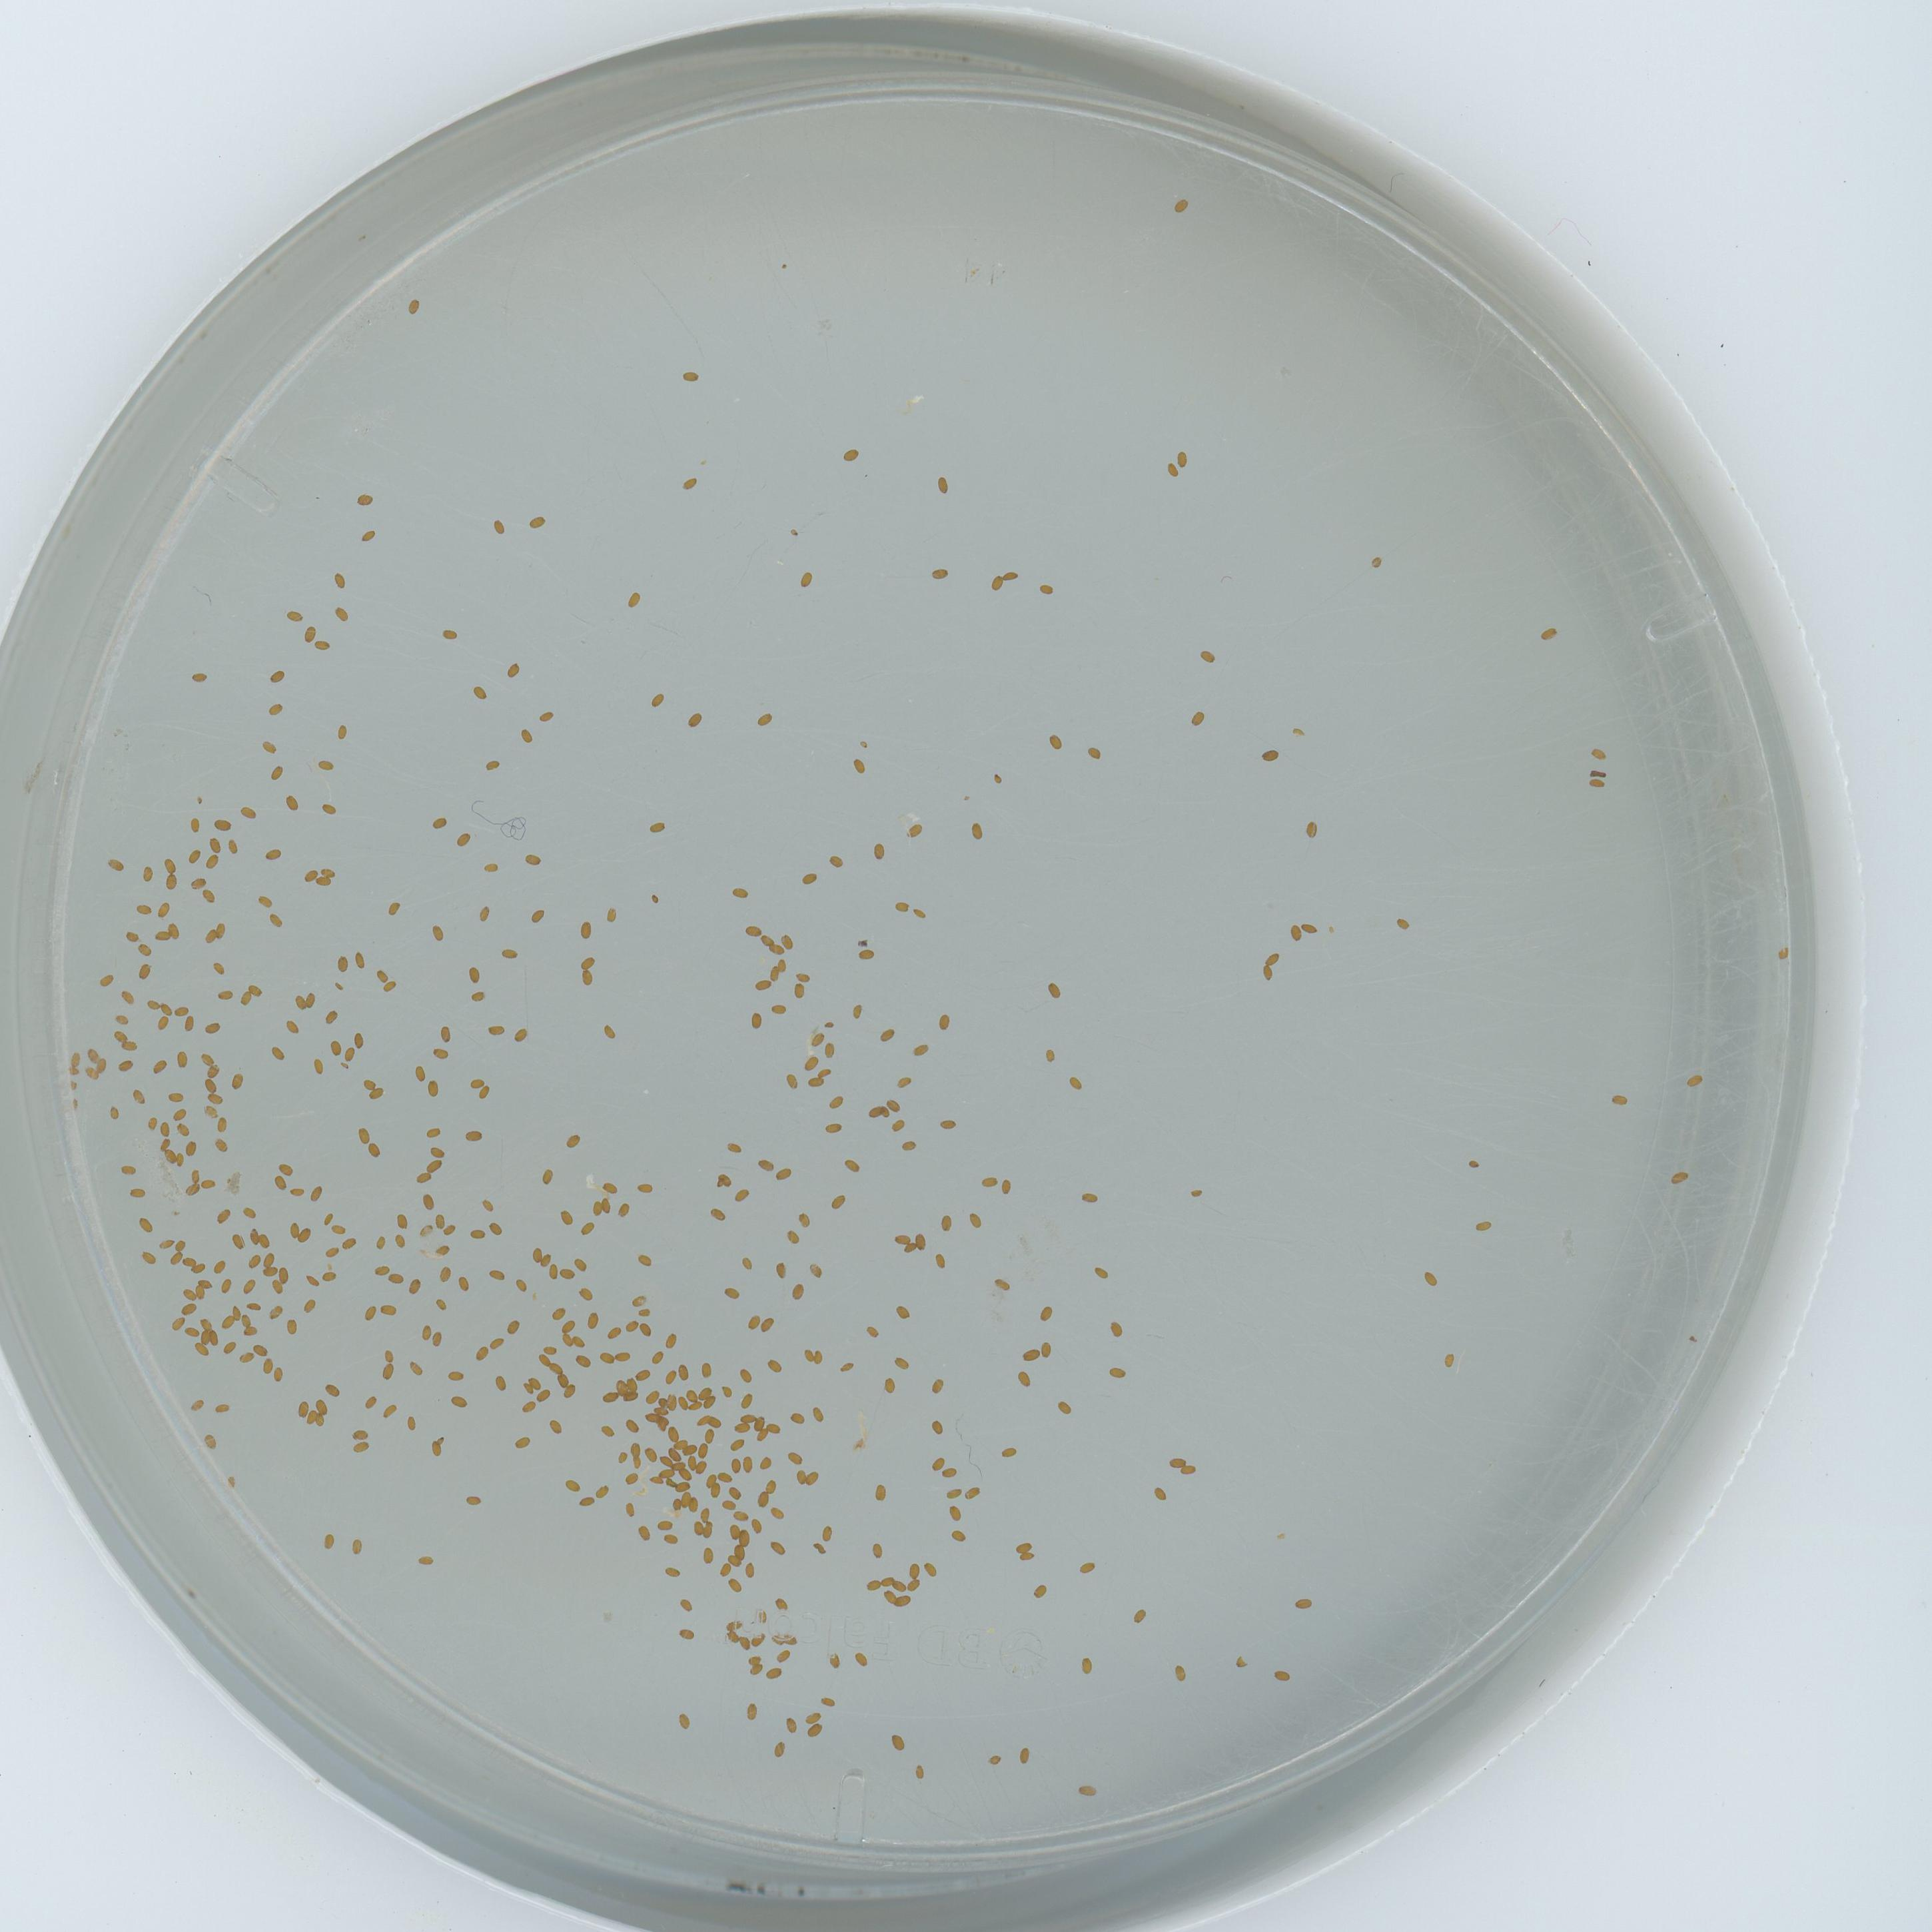seed: (333, 952, 350, 973), (299, 625, 318, 642), (453, 832, 472, 849), (685, 711, 704, 729), (577, 920, 594, 939), (796, 571, 816, 589), (165, 922, 182, 941), (419, 1192, 439, 1210), (226, 1070, 246, 1088), (136, 1215, 156, 1233), (216, 1276, 235, 1293), (1187, 709, 1207, 727), (1260, 747, 1279, 764), (704, 1412, 725, 1428), (154, 901, 172, 918), (844, 444, 862, 462), (681, 472, 699, 490), (649, 819, 667, 837), (202, 855, 219, 872), (490, 517, 508, 534), (557, 1207, 575, 1224), (488, 1332, 506, 1350), (584, 1311, 602, 1329), (828, 1092, 846, 1109), (674, 1713, 692, 1730), (172, 1047, 189, 1065), (423, 1077, 441, 1095), (701, 1546, 718, 1564), (180, 1299, 198, 1316), (874, 1483, 892, 1500), (320, 1532, 338, 1550), (426, 1440, 444, 1458), (752, 1631, 770, 1649), (1284, 922, 1302, 939), (1044, 732, 1062, 750), (1106, 1320, 1123, 1338), (1293, 1594, 1311, 1612), (966, 1210, 984, 1228), (855, 736, 872, 754), (212, 817, 232, 833), (934, 474, 950, 494), (527, 513, 547, 529), (202, 1017, 221, 1033), (748, 1010, 764, 1030), (596, 1350, 616, 1366), (449, 1392, 469, 1408), (801, 1054, 821, 1070), (464, 1125, 483, 1141), (212, 1207, 232, 1223), (870, 1100, 890, 1116), (1166, 1453, 1185, 1468), (1270, 1667, 1290, 1683), (1106, 1362, 1125, 1378), (1077, 1782, 1097, 1798), (188, 874, 205, 890), (133, 901, 150, 916), (267, 764, 285, 780), (264, 847, 281, 863), (267, 669, 285, 685), (138, 867, 156, 883), (732, 885, 750, 901), (471, 685, 488, 701), (329, 571, 347, 587), (428, 924, 444, 941), (483, 757, 501, 773), (803, 872, 821, 888), (265, 911, 283, 927), (182, 849, 200, 865), (683, 368, 701, 384), (205, 837, 221, 855), (386, 899, 402, 916), (331, 605, 349, 621), (122, 925, 140, 941), (239, 805, 257, 821), (320, 801, 338, 817), (872, 844, 890, 860), (134, 939, 150, 957), (931, 564, 948, 580), (600, 1177, 617, 1192), (886, 1095, 904, 1111), (211, 1258, 228, 1274), (577, 1284, 594, 1300), (320, 1269, 338, 1284), (117, 1054, 133, 1072), (212, 1116, 230, 1132), (350, 1424, 368, 1440), (379, 1362, 396, 1378), (770, 1506, 787, 1522), (380, 1403, 398, 1419), (469, 987, 487, 1003), (322, 1008, 340, 1024), (504, 1318, 522, 1334), (575, 1352, 593, 1368), (784, 1716, 800, 1734), (432, 1295, 449, 1311), (331, 1219, 347, 1237), (725, 1578, 743, 1594), (865, 1322, 883, 1338), (170, 1104, 188, 1120), (513, 1026, 529, 1044), (625, 1470, 642, 1486), (354, 1127, 372, 1143), (322, 1380, 340, 1396), (890, 1116, 908, 1132), (212, 1398, 230, 1414), (299, 1297, 317, 1313), (361, 1304, 379, 1320), (600, 1422, 617, 1438), (938, 1214, 955, 1230), (789, 1408, 807, 1424), (635, 1525, 653, 1541), (614, 1346, 632, 1362), (465, 966, 481, 984), (724, 1283, 741, 1299), (625, 1417, 642, 1433), (487, 1219, 504, 1235), (168, 1315, 186, 1330), (665, 1424, 683, 1440), (766, 1665, 784, 1681), (826, 1118, 844, 1134), (352, 1438, 370, 1454), (564, 1131, 582, 1146), (341, 1044, 359, 1060), (775, 1164, 793, 1180), (276, 1157, 294, 1173), (111, 1026, 129, 1042), (639, 1320, 656, 1336), (487, 1021, 504, 1037), (180, 1138, 198, 1154), (196, 1047, 214, 1063), (890, 1736, 908, 1752), (540, 1166, 556, 1184), (179, 1014, 196, 1030), (844, 1155, 862, 1171), (129, 1086, 147, 1102), (372, 1233, 389, 1249), (455, 1276, 472, 1292), (678, 1624, 695, 1640), (379, 1300, 396, 1316), (663, 1562, 681, 1578), (372, 966, 389, 982), (771, 1741, 787, 1759), (621, 1502, 639, 1518), (182, 1323, 200, 1339), (281, 1316, 299, 1332), (770, 1539, 787, 1555), (310, 1056, 327, 1072), (244, 1297, 262, 1313), (513, 1276, 531, 1292), (156, 1233, 173, 1249), (241, 1277, 258, 1293), (605, 1323, 623, 1339), (791, 1281, 807, 1299), (738, 1366, 755, 1382), (150, 1056, 168, 1072), (637, 1178, 655, 1194), (426, 1155, 444, 1171), (791, 982, 809, 998), (488, 1265, 506, 1281), (165, 1086, 182, 1102), (853, 1651, 870, 1667), (741, 1454, 757, 1472), (405, 1277, 421, 1295), (745, 1704, 761, 1721), (649, 1348, 667, 1364), (119, 1161, 136, 1177), (718, 1382, 736, 1398), (308, 1184, 324, 1201), (911, 1039, 929, 1054), (173, 1120, 191, 1136), (717, 1171, 734, 1187), (265, 1304, 283, 1320), (738, 1635, 754, 1652), (936, 1012, 952, 1030), (188, 1394, 205, 1410), (748, 1649, 764, 1667), (418, 1552, 435, 1568), (1394, 915, 1412, 931), (1300, 823, 1318, 839), (1300, 918, 1318, 934), (1198, 648, 1215, 663), (1131, 1606, 1146, 1624), (998, 1177, 1016, 1192), (1150, 1484, 1168, 1500), (1035, 1304, 1053, 1320), (1612, 1090, 1629, 1106), (1077, 1656, 1093, 1674), (1079, 1187, 1097, 1203), (980, 1171, 998, 1187), (993, 1276, 1010, 1292), (1421, 1270, 1438, 1286), (1688, 1072, 1706, 1088), (223, 1476, 241, 1491), (858, 947, 878, 961), (729, 1435, 748, 1449), (211, 961, 230, 975), (1589, 747, 1608, 761), (1173, 196, 1187, 216), (430, 814, 446, 830), (895, 897, 911, 913), (830, 855, 846, 870), (257, 893, 272, 909), (108, 856, 124, 872), (478, 904, 494, 920), (518, 729, 534, 745), (757, 711, 773, 727), (504, 663, 520, 679), (529, 908, 545, 924), (283, 796, 299, 812), (200, 888, 216, 904), (745, 922, 761, 938), (356, 492, 372, 508), (782, 932, 798, 948), (442, 626, 458, 642), (225, 839, 241, 855), (851, 759, 867, 775), (260, 740, 276, 755), (580, 954, 596, 970), (334, 724, 350, 740), (405, 297, 421, 313), (603, 906, 619, 922), (637, 1249, 653, 1265), (363, 1392, 379, 1408), (561, 1316, 577, 1332), (658, 1516, 674, 1532), (494, 1373, 510, 1389), (129, 1184, 145, 1200), (437, 1024, 453, 1040), (775, 1647, 791, 1663), (99, 971, 115, 987), (297, 1228, 313, 1244), (870, 1541, 886, 1557), (391, 1231, 407, 1247), (906, 1560, 922, 1576), (787, 1449, 803, 1465), (218, 985, 234, 1001), (594, 1483, 610, 1499), (929, 1419, 945, 1435), (839, 1357, 855, 1373), (380, 1346, 396, 1362), (479, 1196, 495, 1212), (350, 1030, 366, 1046), (412, 1063, 428, 1079), (699, 1361, 715, 1376), (947, 1484, 962, 1500), (929, 1454, 945, 1470), (113, 1010, 129, 1026), (893, 1355, 909, 1371), (897, 1070, 913, 1086), (883, 1376, 899, 1392), (154, 1014, 170, 1030), (448, 1366, 464, 1382), (469, 1072, 485, 1088), (269, 1042, 285, 1058), (239, 1350, 255, 1366), (662, 1369, 678, 1385), (924, 1560, 939, 1576), (366, 1141, 382, 1157), (237, 989, 253, 1005), (849, 1003, 865, 1019), (272, 1173, 288, 1189), (580, 1219, 596, 1235), (432, 1044, 448, 1060), (550, 1304, 566, 1320), (786, 1072, 801, 1088), (571, 1332, 587, 1348), (759, 1453, 775, 1468), (773, 1596, 789, 1612), (759, 1155, 775, 1171), (340, 1235, 356, 1251), (867, 1576, 883, 1592), (761, 1315, 777, 1330), (932, 1251, 948, 1267), (908, 1576, 924, 1592), (750, 1518, 766, 1534), (915, 1233, 931, 1249), (547, 1417, 563, 1433), (373, 1260, 389, 1276), (212, 1136, 228, 1152), (740, 1392, 755, 1408), (821, 1525, 837, 1541), (810, 1028, 826, 1044), (186, 1166, 202, 1182), (349, 1537, 364, 1553), (303, 991, 318, 1007), (579, 1493, 594, 1509), (821, 1016, 837, 1031), (663, 1332, 679, 1348), (764, 1477, 780, 1493), (191, 1341, 207, 1357), (221, 1338, 237, 1353), (614, 1449, 630, 1465), (947, 1504, 962, 1520), (416, 1169, 432, 1185), (230, 1233, 246, 1249), (119, 989, 134, 1005), (288, 1184, 304, 1200), (697, 1384, 713, 1399), (184, 1180, 200, 1196), (559, 1265, 575, 1281), (437, 1265, 453, 1281), (895, 1304, 911, 1320), (678, 1596, 694, 1612), (287, 1223, 303, 1238), (832, 1192, 847, 1208), (734, 1185, 750, 1201), (430, 1329, 446, 1345), (740, 1253, 755, 1269), (745, 1315, 761, 1330), (810, 1407, 826, 1422), (616, 1201, 632, 1217), (476, 1085, 492, 1100), (786, 1228, 801, 1244), (465, 1491, 481, 1507), (809, 1725, 824, 1741), (796, 1212, 812, 1228), (725, 1523, 741, 1539), (318, 1210, 334, 1226), (644, 1445, 660, 1461), (773, 1261, 789, 1277), (573, 1254, 589, 1270), (793, 1468, 809, 1484), (143, 1115, 159, 1131), (881, 1589, 897, 1605), (897, 1592, 913, 1608), (244, 1253, 260, 1269), (120, 1037, 136, 1053), (809, 1261, 824, 1277), (515, 1431, 531, 1447), (418, 1323, 433, 1339), (529, 1373, 545, 1389), (724, 1629, 740, 1645), (911, 1764, 927, 1780), (1037, 580, 1053, 596), (970, 823, 985, 839), (1023, 1345, 1039, 1361), (1017, 1748, 1033, 1764), (1054, 1398, 1070, 1414), (1030, 1583, 1046, 1599), (966, 1484, 982, 1500), (1171, 1665, 1187, 1681), (1258, 966, 1274, 982), (1092, 1263, 1108, 1279), (1001, 1442, 1017, 1458), (1077, 1559, 1093, 1575), (1476, 1217, 1491, 1233), (1065, 1072, 1081, 1088), (1044, 982, 1060, 998), (1440, 1352, 1456, 1368), (67, 1051, 83, 1067), (313, 639, 331, 653), (354, 952, 368, 970), (285, 609, 303, 623), (161, 874, 179, 888), (161, 860, 179, 874), (501, 945, 518, 959), (906, 823, 924, 837), (766, 1357, 784, 1371), (472, 1346, 490, 1361), (805, 1711, 823, 1725), (564, 1477, 582, 1491), (467, 1224, 485, 1238), (393, 1214, 410, 1228), (428, 1143, 446, 1157), (826, 1654, 844, 1668), (755, 978, 773, 993), (96, 1056, 110, 1074), (701, 1428, 718, 1442), (635, 1366, 653, 1380), (662, 1532, 679, 1546), (676, 1364, 694, 1378), (709, 1205, 727, 1219), (402, 1415, 419, 1430), (741, 1562, 759, 1576), (202, 1433, 219, 1447), (623, 1318, 640, 1332), (725, 1139, 743, 1154), (387, 1270, 405, 1284), (794, 970, 812, 984), (727, 1486, 745, 1500), (701, 1396, 718, 1410), (172, 1001, 189, 1016), (218, 1315, 235, 1329), (267, 1279, 285, 1293), (929, 1378, 947, 1392), (1175, 449, 1189, 467), (1001, 568, 1019, 582), (1539, 626, 1557, 640), (1014, 1537, 1031, 1552), (1178, 1463, 1196, 1477), (1589, 777, 1606, 791), (1670, 1171, 1688, 1185), (1775, 947, 1792, 961), (614, 1378, 628, 1396), (695, 1414, 713, 1428), (294, 993, 306, 1012), (159, 1118, 172, 1138), (653, 1405, 672, 1417), (317, 757, 333, 771), (191, 671, 207, 685), (913, 906, 929, 920), (525, 853, 541, 867), (186, 819, 202, 833), (628, 593, 644, 607), (483, 862, 499, 876), (301, 870, 317, 885), (651, 694, 667, 708), (267, 702, 283, 717), (320, 865, 336, 879), (359, 529, 375, 543), (646, 892, 662, 906), (248, 1230, 262, 1246), (771, 1001, 787, 1016), (602, 1389, 617, 1403), (134, 966, 150, 980), (821, 1693, 837, 1707), (140, 1249, 156, 1263), (425, 1122, 441, 1136), (635, 1306, 651, 1320), (294, 1401, 308, 1417), (720, 1497, 736, 1511), (435, 1244, 451, 1258), (536, 1389, 552, 1403), (559, 1332, 575, 1346), (251, 1341, 267, 1355), (283, 1017, 299, 1031), (370, 1086, 386, 1100), (879, 1028, 895, 1042), (823, 1042, 839, 1056), (809, 1074, 824, 1088), (699, 1506, 713, 1522), (950, 1527, 964, 1543), (768, 1421, 784, 1435), (200, 1177, 216, 1191), (262, 1251, 278, 1265), (257, 1359, 272, 1373), (303, 1272, 318, 1286), (901, 1136, 916, 1150), (324, 1244, 340, 1258), (205, 1090, 221, 1104), (326, 1039, 341, 1053), (563, 1384, 579, 1398), (895, 1230, 911, 1244), (543, 1341, 559, 1355), (579, 971, 594, 985), (941, 1465, 957, 1479), (432, 1212, 448, 1226), (407, 1361, 423, 1375), (734, 1421, 750, 1435), (156, 1138, 172, 1152), (688, 1497, 702, 1513), (755, 1491, 771, 1506), (520, 1399, 536, 1414), (156, 1000, 172, 1014), (646, 1389, 660, 1405), (242, 1203, 257, 1219), (718, 1470, 734, 1484), (630, 1292, 646, 1306), (442, 1223, 458, 1237), (939, 1115, 955, 1129), (278, 1265, 292, 1281), (801, 1346, 817, 1361), (602, 1023, 617, 1037), (271, 1368, 285, 1384), (881, 1571, 897, 1585), (697, 1444, 713, 1458), (361, 1074, 375, 1090), (257, 1233, 272, 1247), (718, 1562, 734, 1576), (191, 1261, 207, 1276), (196, 1315, 211, 1330), (202, 1076, 216, 1092), (768, 966, 784, 980), (172, 1238, 186, 1254), (529, 1247, 543, 1263), (807, 1470, 823, 1484), (623, 1392, 639, 1407), (246, 980, 262, 994), (669, 1445, 685, 1460), (727, 1458, 743, 1472), (106, 1104, 122, 1118), (688, 1520, 704, 1534), (205, 1062, 221, 1076), (628, 1440, 644, 1454), (754, 1430, 770, 1444), (589, 1200, 603, 1215), (632, 1454, 646, 1470), (748, 1665, 764, 1679), (658, 1454, 674, 1468), (536, 1352, 550, 1368), (732, 1545, 747, 1560), (83, 1046, 99, 1060), (1263, 950, 1279, 964), (1086, 747, 1102, 761), (1162, 462, 1178, 476), (987, 575, 1003, 589), (1368, 554, 1384, 568), (1016, 1371, 1031, 1385), (1039, 1341, 1053, 1357), (987, 1752, 1001, 1767), (1042, 1047, 1056, 1063), (1231, 1656, 1247, 1670), (1187, 1184, 1203, 1198), (787, 525, 803, 540), (679, 1493, 694, 1509), (419, 1224, 435, 1238), (725, 1621, 747, 1631), (83, 1065, 99, 1079), (203, 929, 216, 947), (207, 1329, 219, 1346), (644, 1412, 662, 1424), (816, 1063, 833, 1076), (1017, 1550, 1035, 1562), (200, 1327, 212, 1345), (667, 1392, 678, 1412), (540, 711, 554, 725), (214, 924, 228, 938), (761, 932, 775, 947), (502, 826, 517, 840), (170, 1251, 184, 1265), (709, 1484, 724, 1499), (198, 1274, 212, 1288), (262, 1263, 276, 1277), (315, 1398, 329, 1412), (180, 1286, 195, 1300), (545, 1265, 559, 1279), (892, 1578, 906, 1592), (695, 1460, 709, 1474), (679, 1467, 694, 1481), (685, 1454, 699, 1468), (173, 1152, 188, 1166), (989, 771, 1003, 786), (672, 1460, 686, 1474), (152, 929, 168, 941), (734, 1509, 750, 1522), (702, 1522, 715, 1537), (648, 1474, 663, 1486), (380, 980, 396, 993), (786, 1633, 801, 1645), (143, 996, 159, 1008), (814, 1350, 826, 1366), (740, 1412, 755, 1424), (242, 1325, 258, 1338), (548, 1361, 564, 1373), (812, 1541, 828, 1553), (182, 1256, 198, 1269), (674, 1481, 690, 1493), (200, 1104, 216, 1116), (626, 1376, 639, 1392), (658, 1467, 674, 1479), (663, 1477, 679, 1490), (770, 1633, 786, 1645), (315, 878, 333, 888), (602, 1198, 612, 1215), (740, 1530, 754, 1543), (685, 1387, 699, 1399), (304, 1412, 318, 1424), (556, 1373, 570, 1385), (518, 1380, 531, 1394), (704, 1474, 718, 1486), (671, 1497, 683, 1511), (690, 1401, 704, 1414), (191, 1286, 205, 1299), (755, 1610, 768, 1624), (685, 1442, 697, 1456), (674, 1438, 686, 1453), (67, 1079, 81, 1092), (770, 943, 786, 954), (902, 1242, 918, 1253), (65, 1065, 81, 1076), (754, 1417, 766, 1430), (163, 1148, 175, 1161), (237, 1313, 249, 1325), (678, 1398, 690, 1410), (541, 1253, 552, 1267), (658, 1394, 669, 1408), (725, 1555, 740, 1566), (1467, 1157, 1481, 1168), (879, 1106, 890, 1120), (656, 1419, 669, 1430), (777, 959, 787, 971), (232, 1306, 241, 1320), (435, 1435, 444, 1447), (315, 1414, 324, 1424), (715, 1180, 724, 1191)
